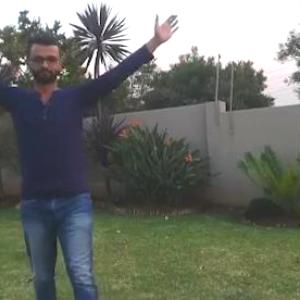takeoff: (1, 18, 165, 300)
